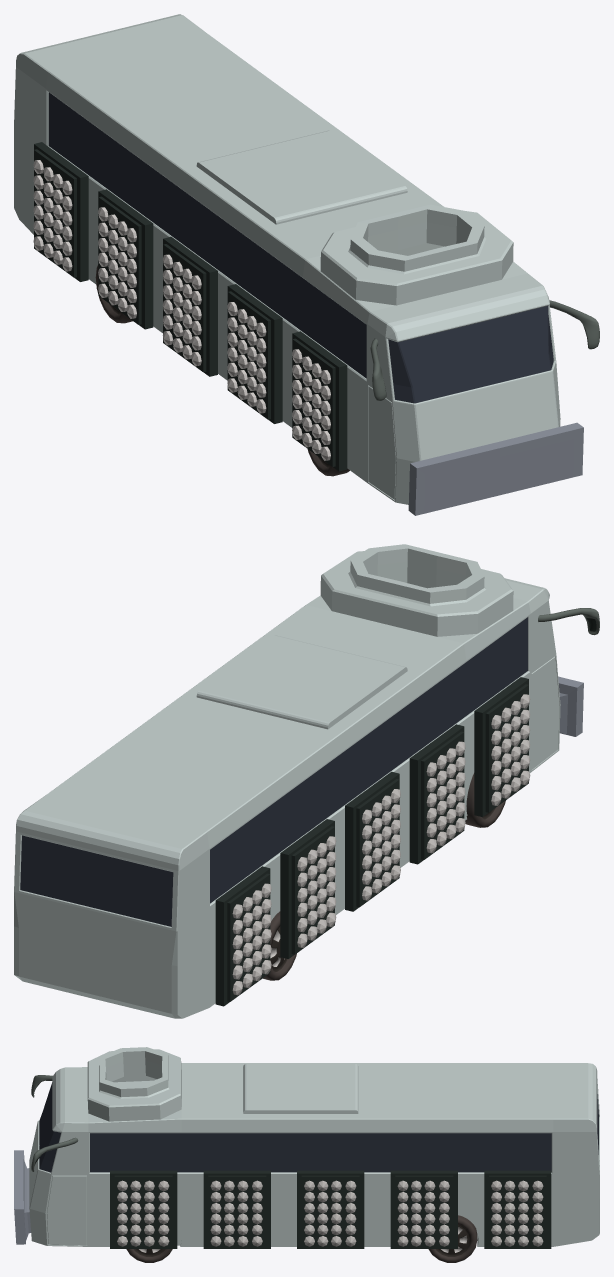
File: otobus.glb
3 views of the same model, one above another, from view 1: azimuth 30°, elevation 25°; view 2: azimuth 150°, elevation 25°; view 3: azimuth 270°, elevation 25° (orthographic). The views are drawn at different scales.
Visible parts, largest first — view 1: Cube, Cube.002, Cube.003, Cube.001; view 2: Cube, Cube.002, Cube.003, Cylinder.001, Cylinder, Cube.001; view 3: Cube, Cube.002, Cube.003, Cylinder.001, Cube.001, Cylinder.
Boxes of the visible parts, x1,y1,x2,y2 form: Cube: (14, 14, 560, 504); Cube.002: (33, 142, 347, 471); Cube.003: (408, 422, 583, 515); Cube.001: (370, 300, 599, 400); Cube: (14, 544, 560, 1018); Cube.002: (215, 677, 530, 1006); Cube.003: (558, 676, 583, 736); Cylinder.001: (263, 911, 296, 980); Cylinder: (465, 773, 505, 827); Cube.001: (538, 608, 599, 635); Cube: (29, 1047, 599, 1246); Cube.002: (110, 1170, 551, 1248); Cube.003: (14, 1150, 31, 1244); Cylinder.001: (428, 1215, 477, 1262); Cube.001: (31, 1075, 78, 1171); Cylinder: (126, 1249, 172, 1262).
Size of the model in its own units: 1.17 by 1.14 by 3.62.
1 material, 1 textured.
